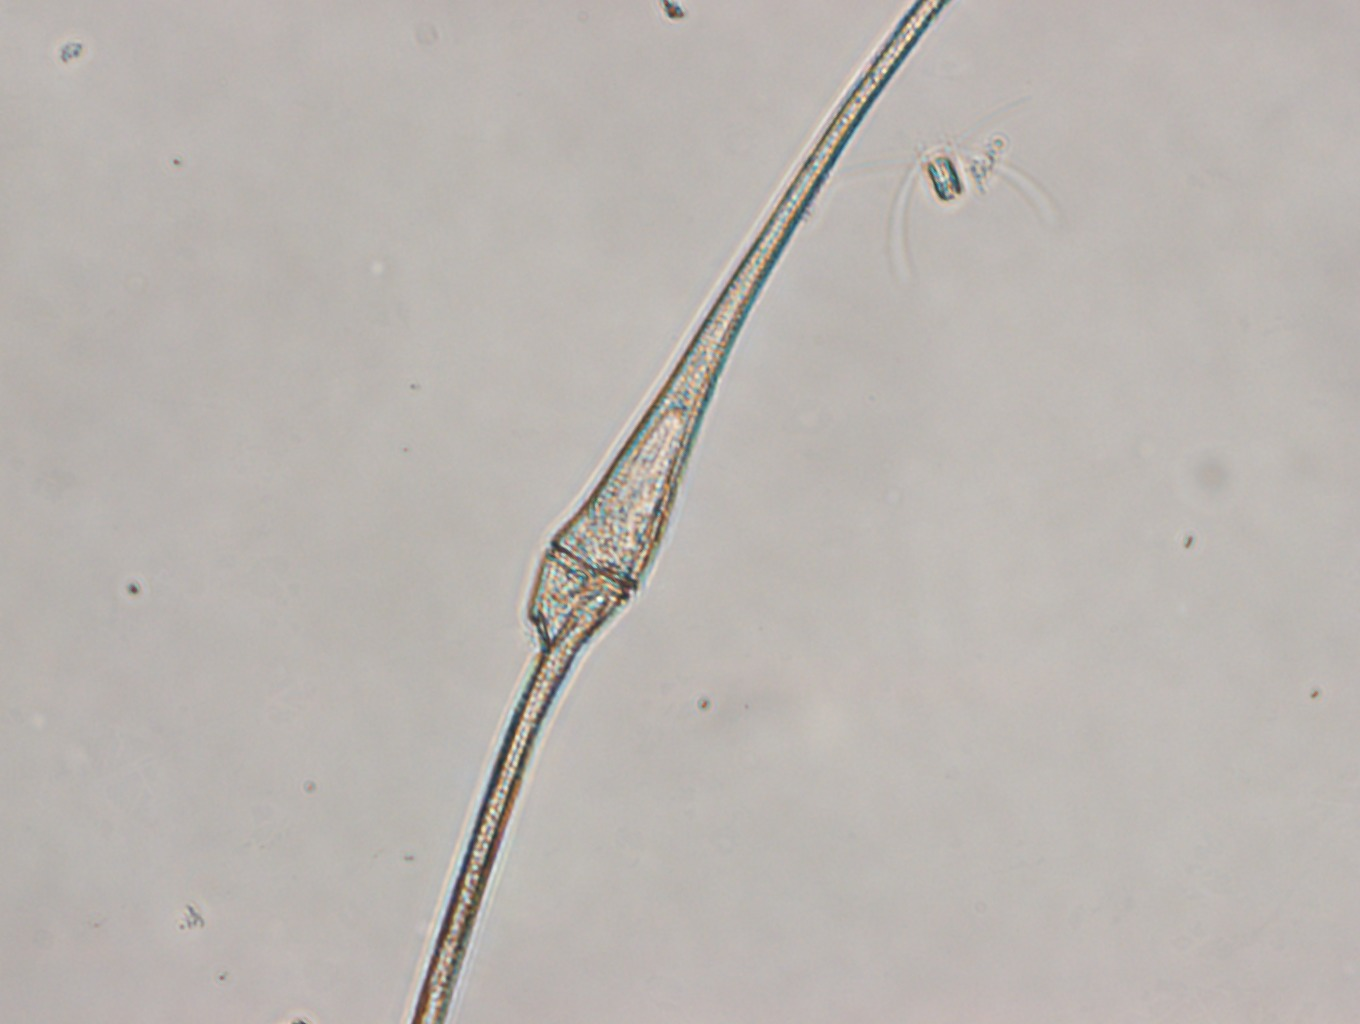ceratium fusus: (406, 1, 944, 1024)
